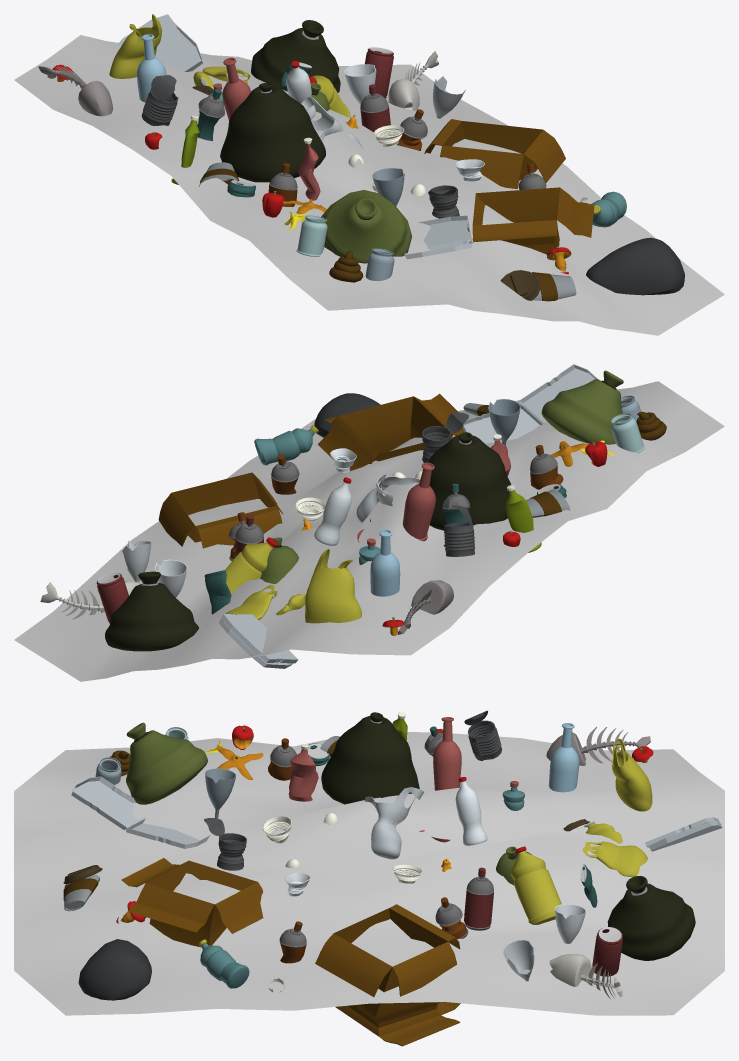
The model's file is Conteiner_Basura.fbx.
The picture shows the model from 3 angles, top to bottom: view 1: azimuth 30°, elevation 25°; view 2: azimuth 150°, elevation 25°; view 3: azimuth 270°, elevation 25°; orthographic projection. The views are drawn at different scales.
Visible parts, largest first — view 1: Conteiner_Basura; view 2: Conteiner_Basura; view 3: Conteiner_Basura.
Part boxes in pixels (x1=…): Conteiner_Basura: x1=14, y1=14, x2=724, y2=335; Conteiner_Basura: x1=14, y1=364, x2=724, y2=681; Conteiner_Basura: x1=14, y1=710, x2=724, y2=1046.
Bounding box in the file's own units: 499 × 240 × 798.
